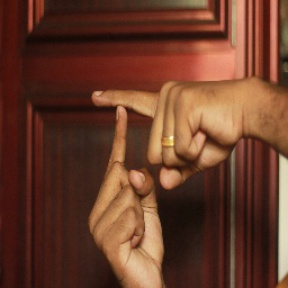T: (74, 76, 178, 203)
